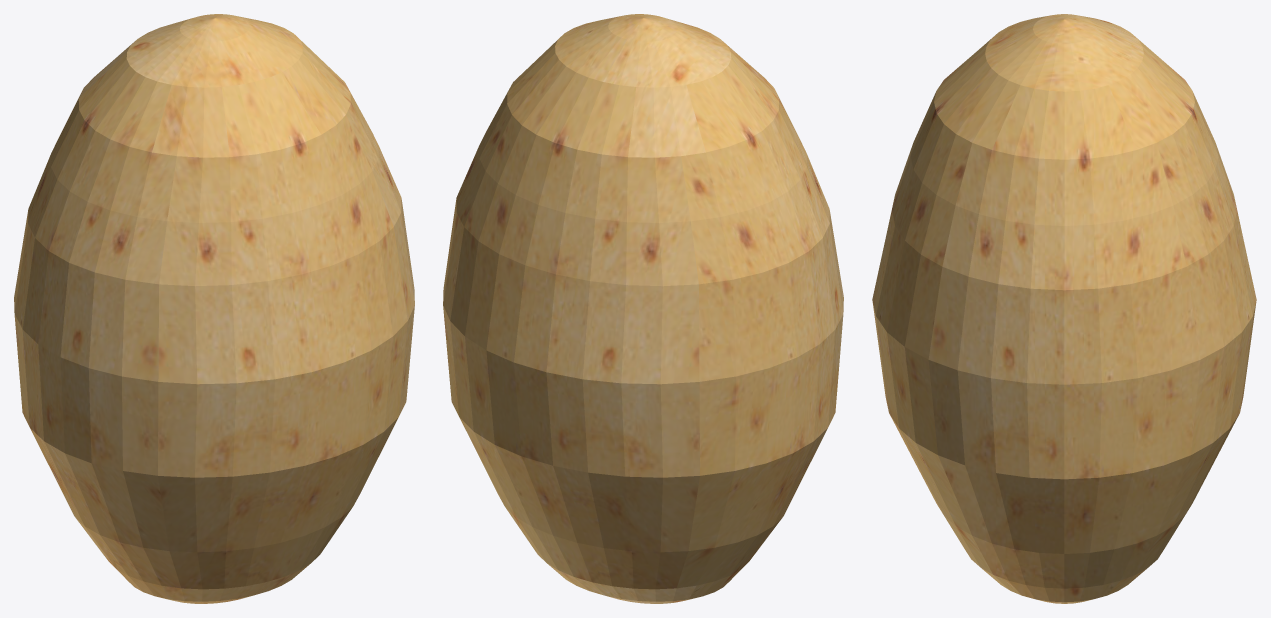
Rendered from potato.fbx.
3 views of the same model, side by side, from view 1: azimuth 30°, elevation 25°; view 2: azimuth 150°, elevation 25°; view 3: azimuth 270°, elevation 25° (orthographic).
Parts seen in each view (by area): view 1: Sphere; view 2: Sphere; view 3: Sphere.
Boxes of the visible parts, x1,y1,x2,y2 form: Sphere: (14, 14, 414, 603); Sphere: (443, 14, 843, 603); Sphere: (872, 14, 1256, 603).
Bounding box in the file's own units: 191 × 297 × 182.
1 material, 1 textured.
